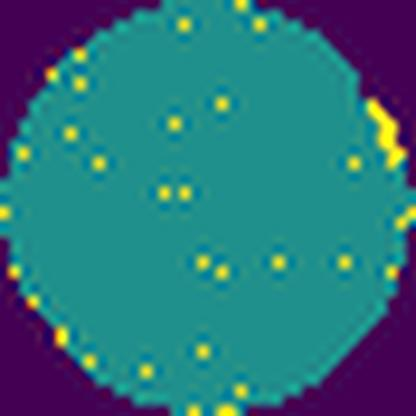Edge-Loc: (364, 98, 409, 172)
